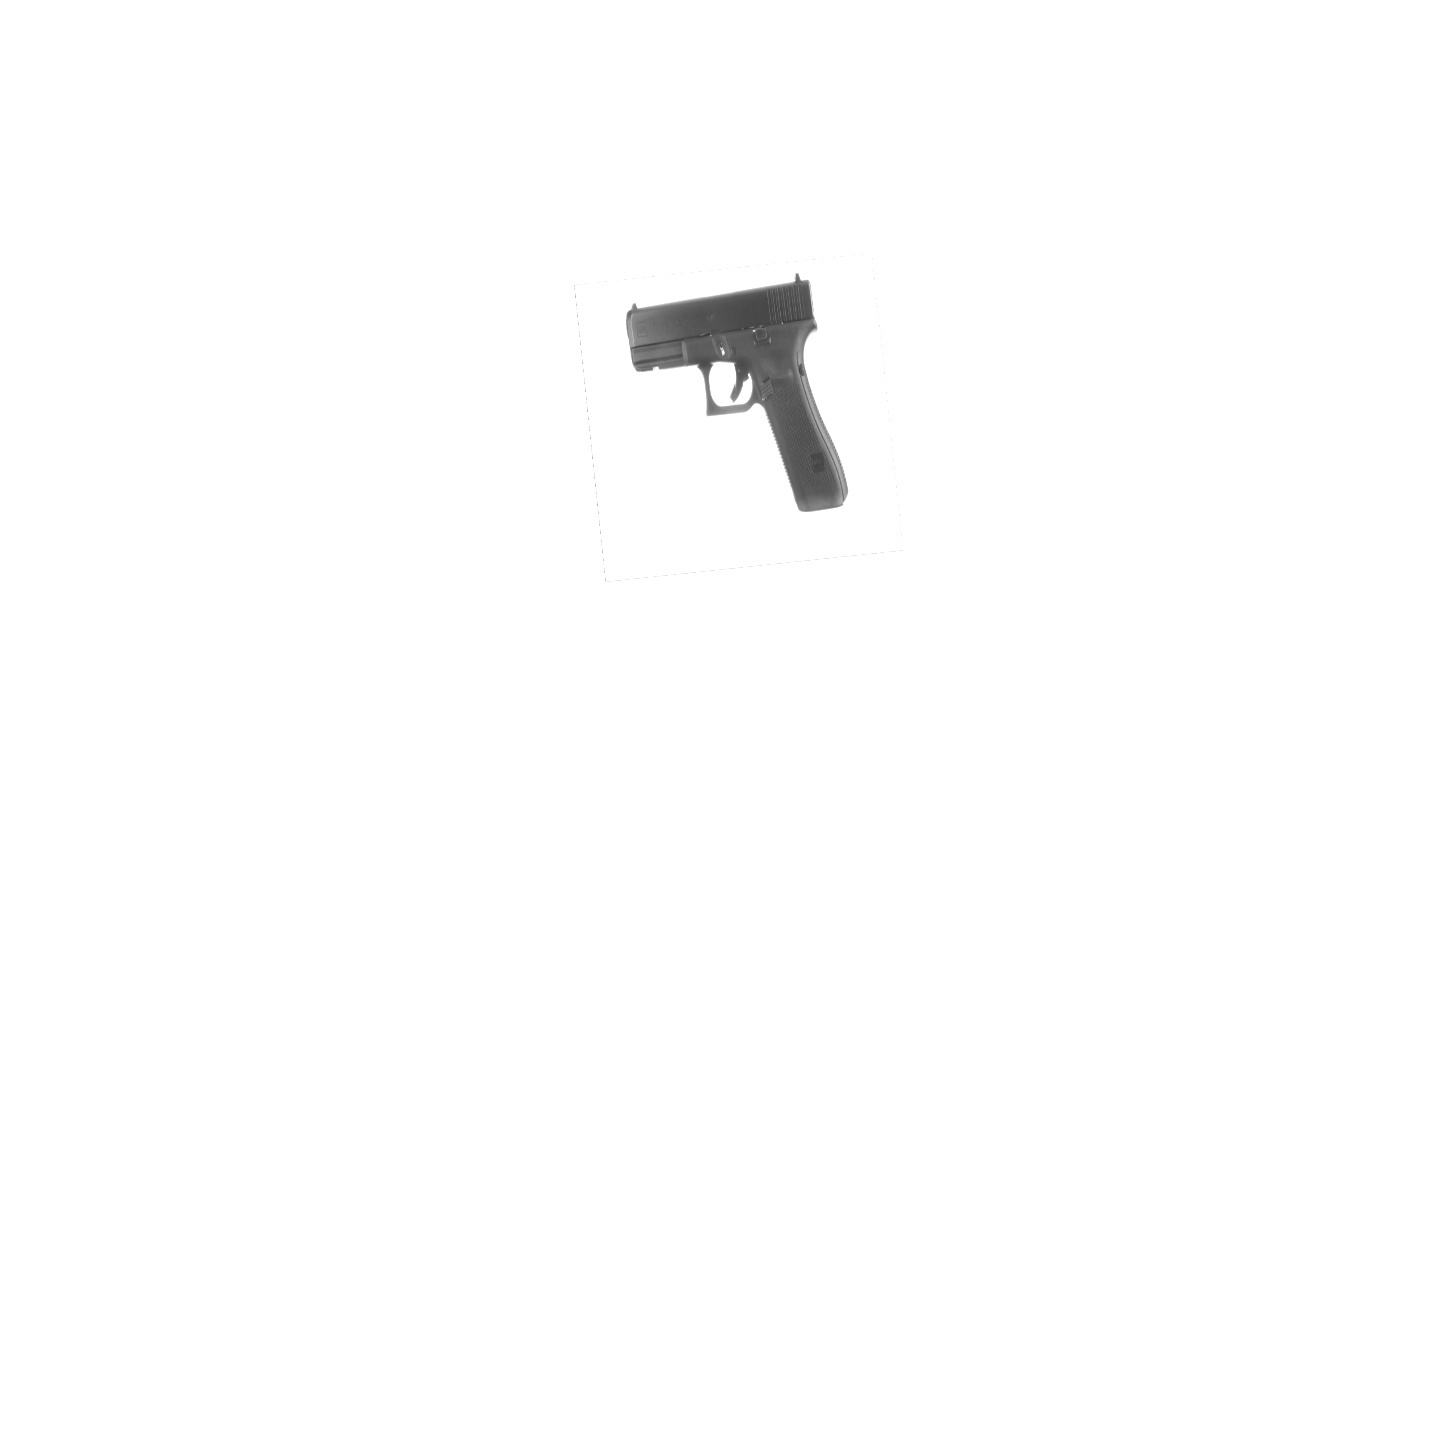gun: (626, 271, 851, 519)
